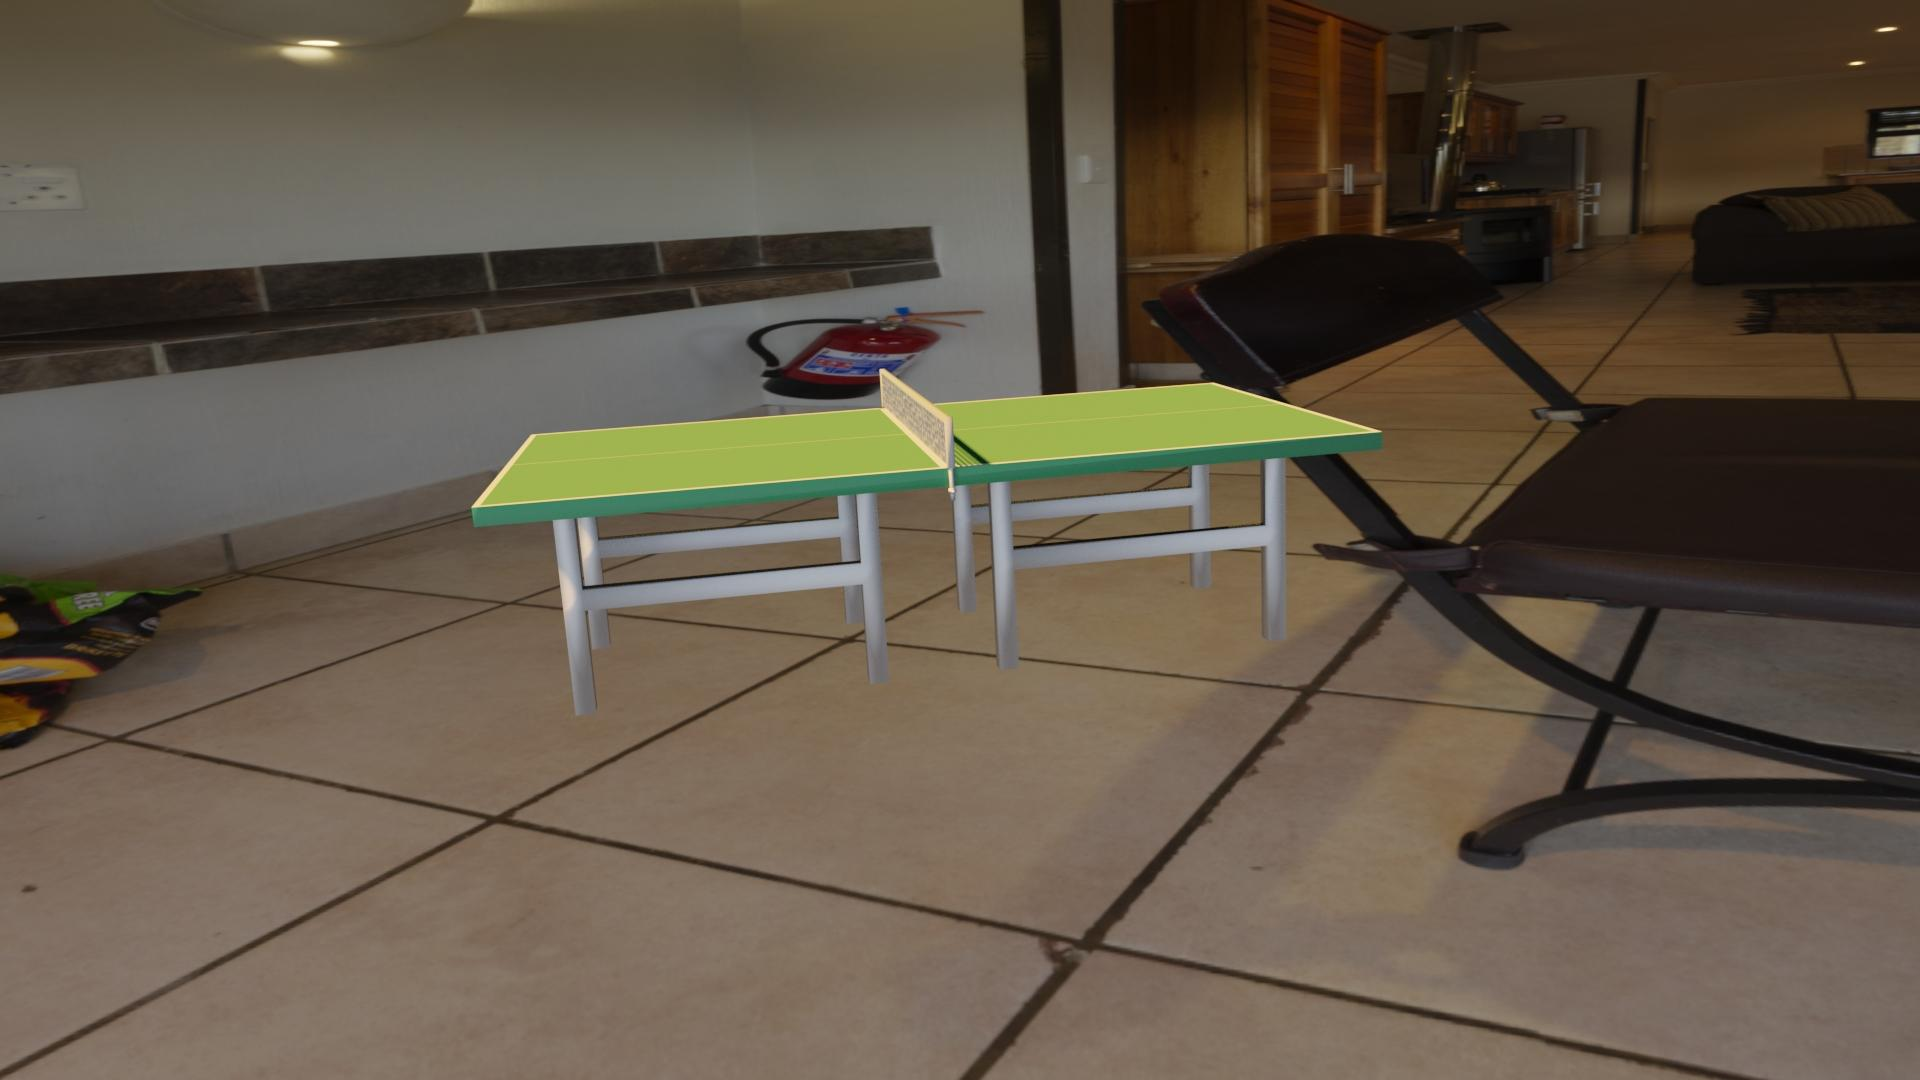table: (480, 384, 1373, 505)
